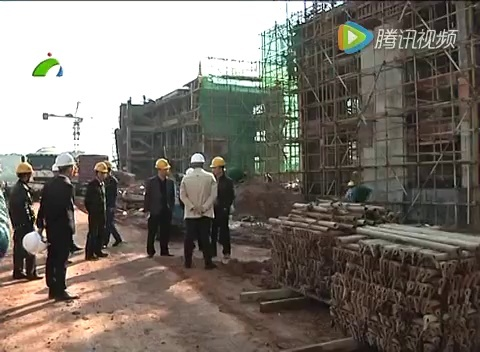white: (54, 151, 74, 177), (188, 150, 205, 170)
yellow: (15, 160, 33, 184), (208, 153, 226, 174), (153, 157, 169, 177), (92, 161, 107, 181)
